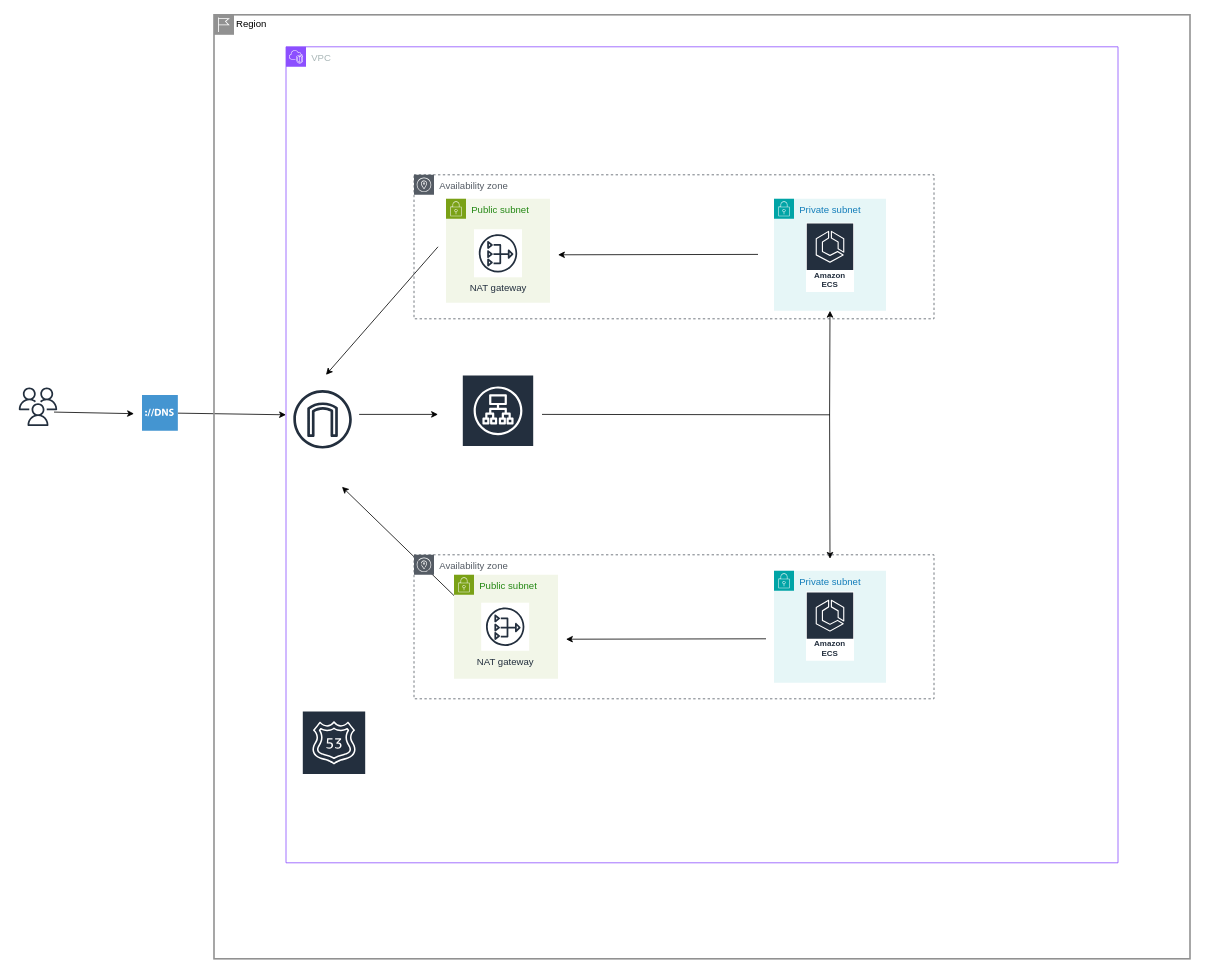
Some shapes in this 1205 by 973 pixel diagram are drawn without their labels. The shapes that lost their labels are listed below. From the top down, each one's centre as x and y in pixels, then its label:
(x=37, y=406): Users
(x=322, y=419): Internet gateway
(x=497, y=422): Application Load Balancer
(x=333, y=754): Amazon Route 53
